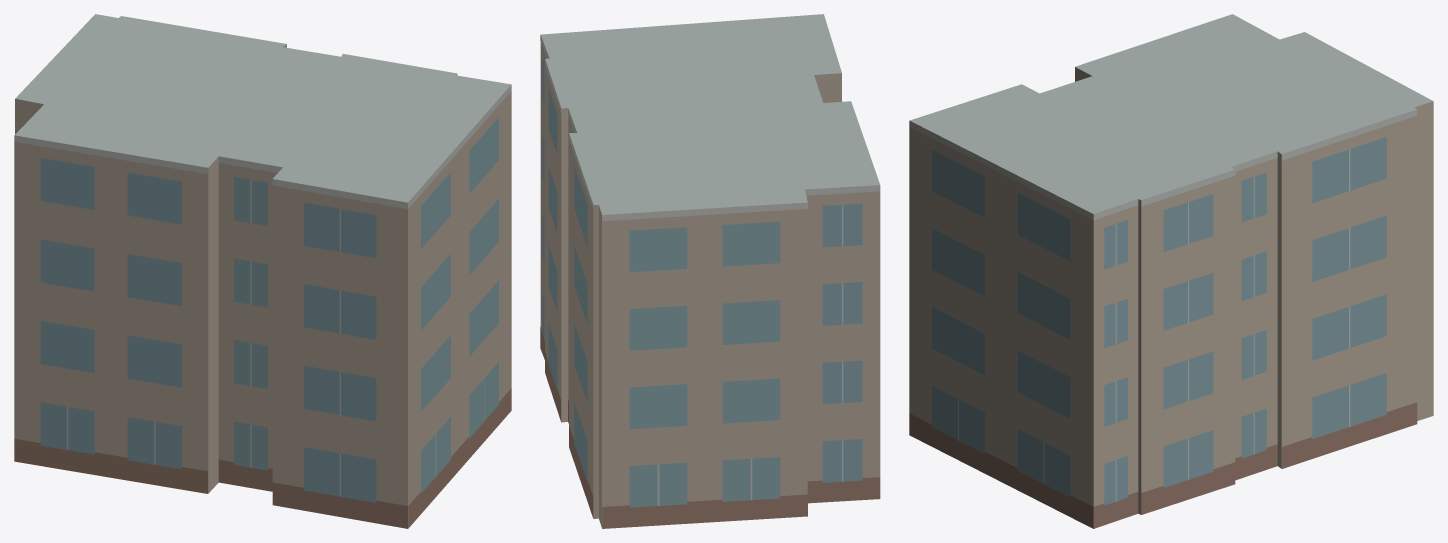
Rendered from survey-upis-32529313.glb.
3 views of the same model, side by side, from view 1: azimuth 30°, elevation 25°; view 2: azimuth 150°, elevation 25°; view 3: azimuth 270°, elevation 25° (orthographic). The views are drawn at different scales.
Visible parts, largest first — view 1: survey-upis-32529313.tmp; view 2: survey-upis-32529313.tmp; view 3: survey-upis-32529313.tmp.
Part boxes in pixels (x1,y1,x2,y2): survey-upis-32529313.tmp: (14, 14, 511, 528); survey-upis-32529313.tmp: (540, 14, 880, 528); survey-upis-32529313.tmp: (909, 14, 1433, 528).
Size of the model in its own units: 16.65 by 12.2 by 18.42.
